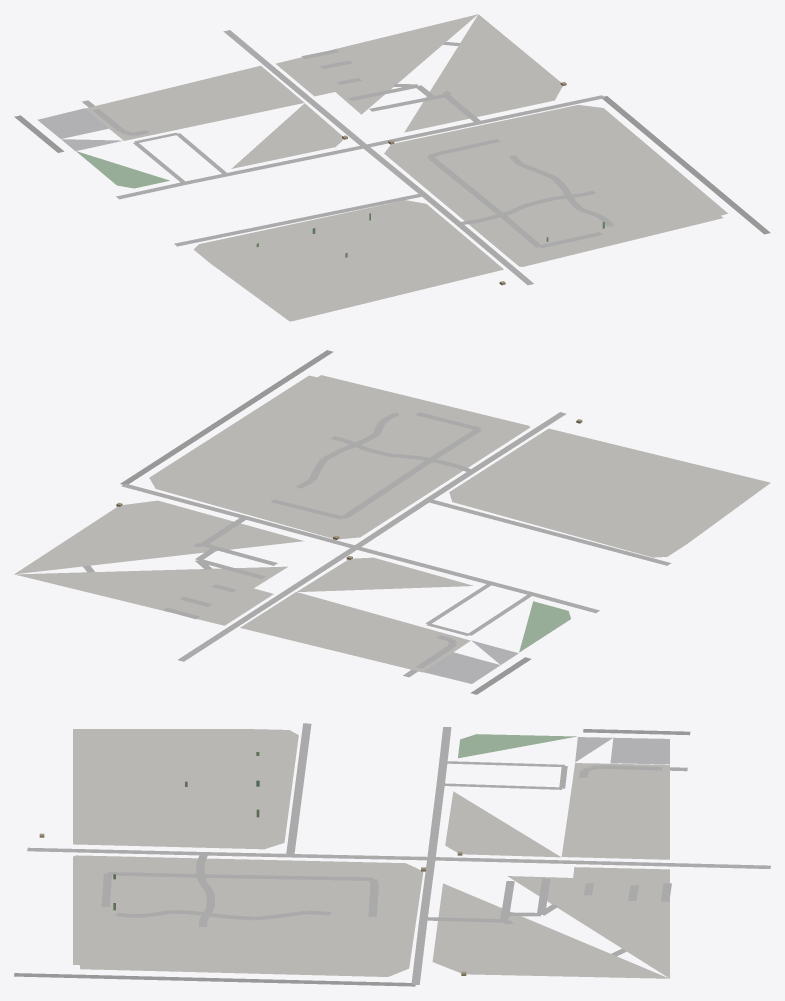
The picture shows the model from 3 angles, top to bottom: view 1: azimuth 30°, elevation 25°; view 2: azimuth 150°, elevation 25°; view 3: azimuth 270°, elevation 25°; orthographic projection. The views are drawn at different scales.
Size of the model in its own units: 513 by 10.29 by 634.
